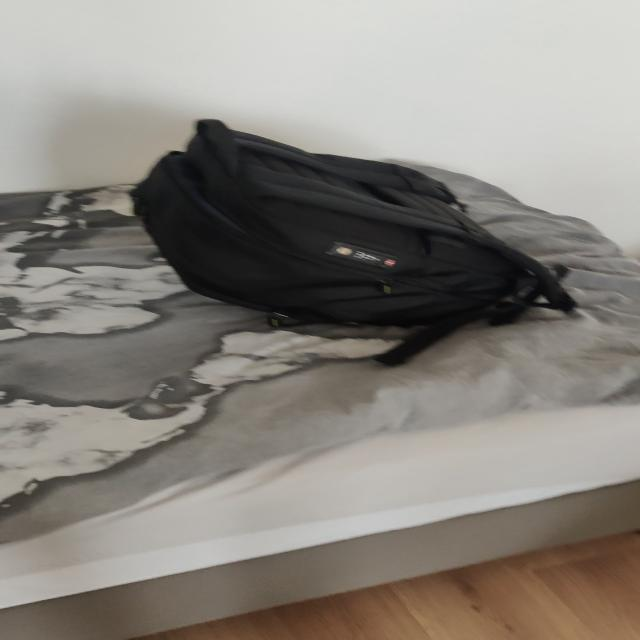backpack: (119, 114, 575, 358)
